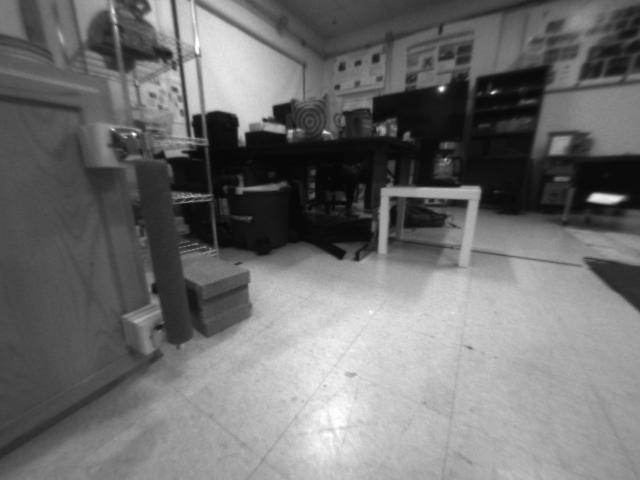coffee_pot: (411, 133, 466, 185)
